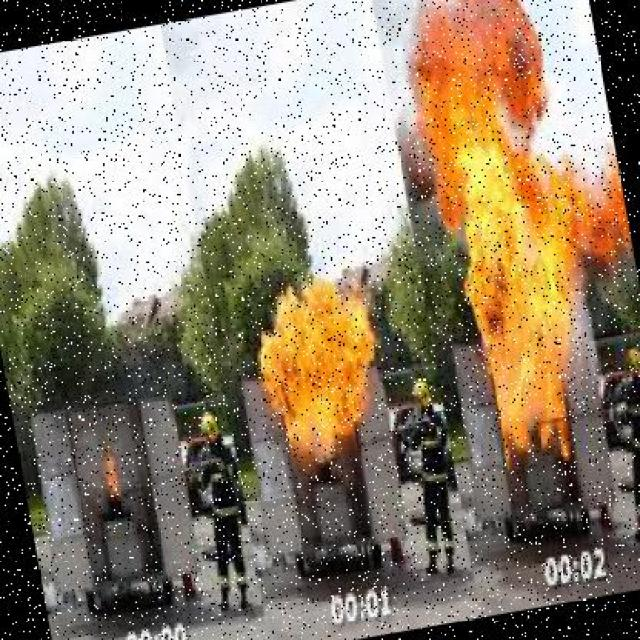fire: (389, 0, 635, 472), (238, 265, 394, 460), (86, 437, 149, 511)
